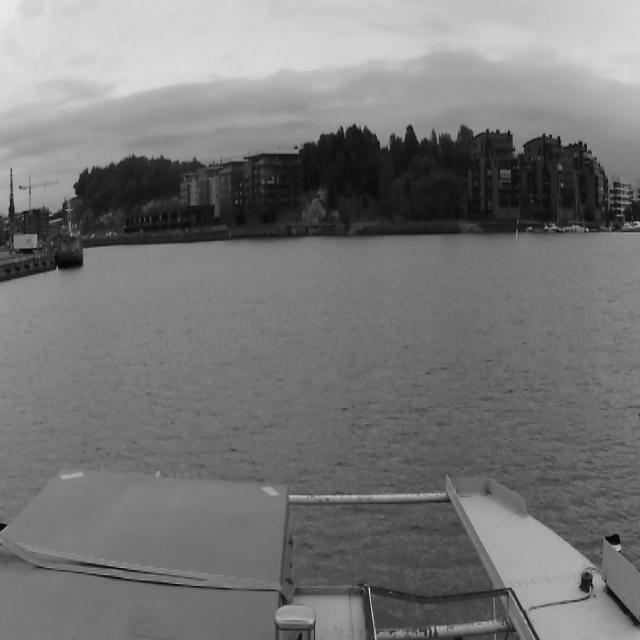ship: (54, 196, 84, 271), (563, 162, 589, 233), (542, 162, 560, 234)
